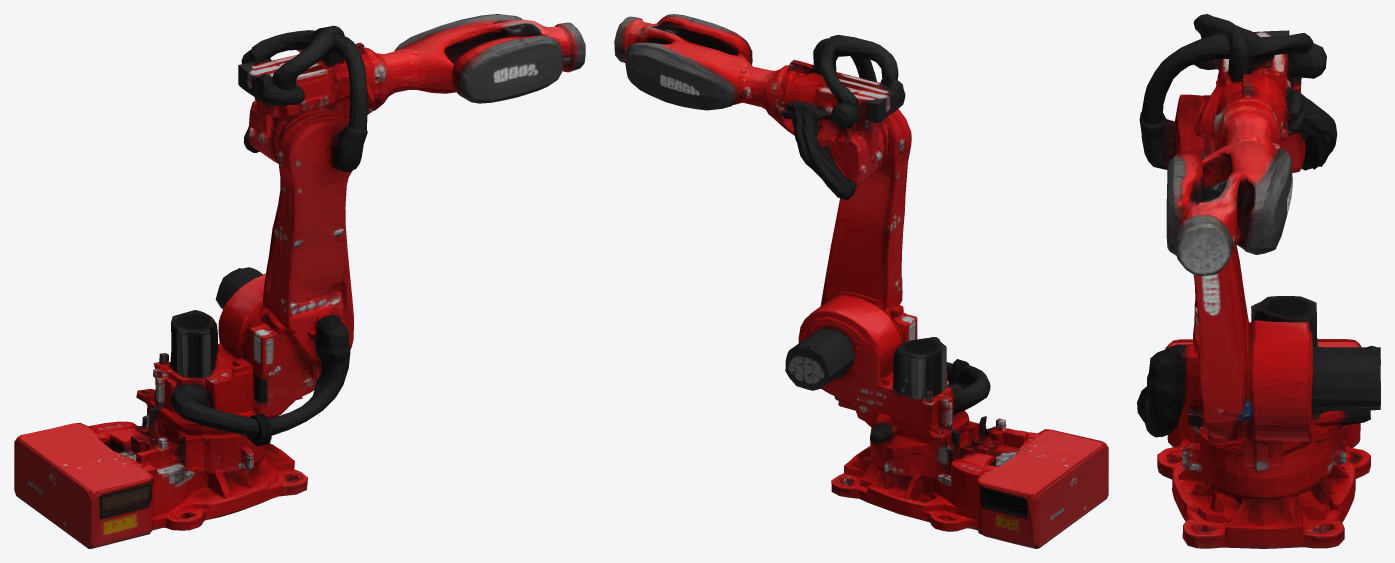
3 renders of one model, left to right at view 1: azimuth 30°, elevation 25°; view 2: azimuth 150°, elevation 25°; view 3: azimuth 270°, elevation 25°, orthographic. The views are drawn at different scales.
Parts seen in each view (by area): view 1: world; view 2: world; view 3: world.
Part boxes in pixels (<box>): world: <box>14,14,585,548</box>; world: <box>614,14,1108,548</box>; world: <box>1137,14,1380,548</box>.
Size of the model in its own units: 0.9887 by 0.8314 by 0.337.
1 material, 1 textured.
